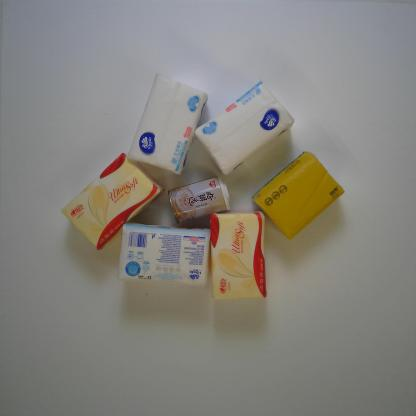Canned Food: (167, 174, 232, 224)
Tissue: (60, 150, 165, 250), (194, 79, 296, 177), (250, 150, 346, 242), (127, 72, 210, 175), (117, 221, 211, 287), (209, 209, 268, 301)
